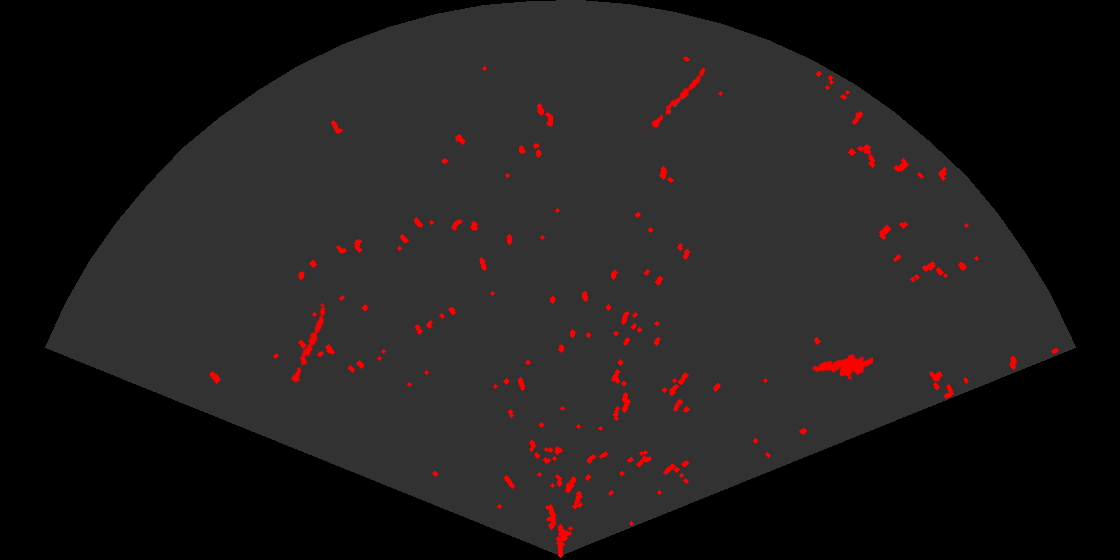chain: (644, 66, 707, 138), (289, 304, 327, 390)
frogman: (810, 352, 873, 381)
